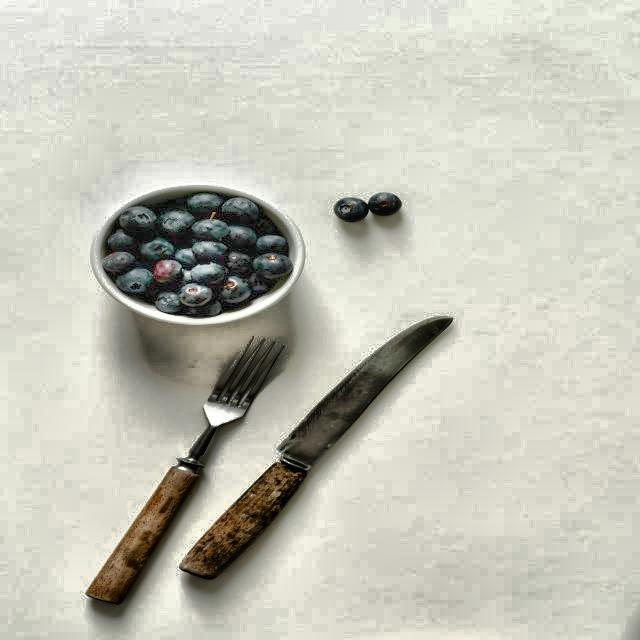knife: (161, 312, 462, 566)
